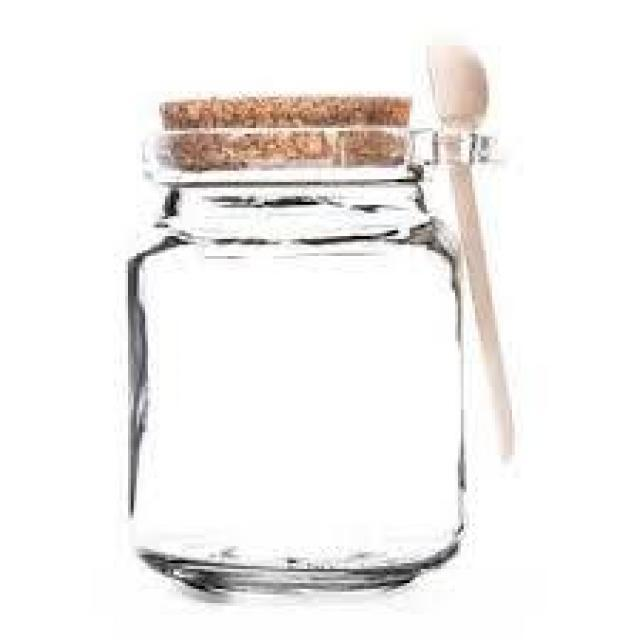glass: (111, 91, 478, 603)
